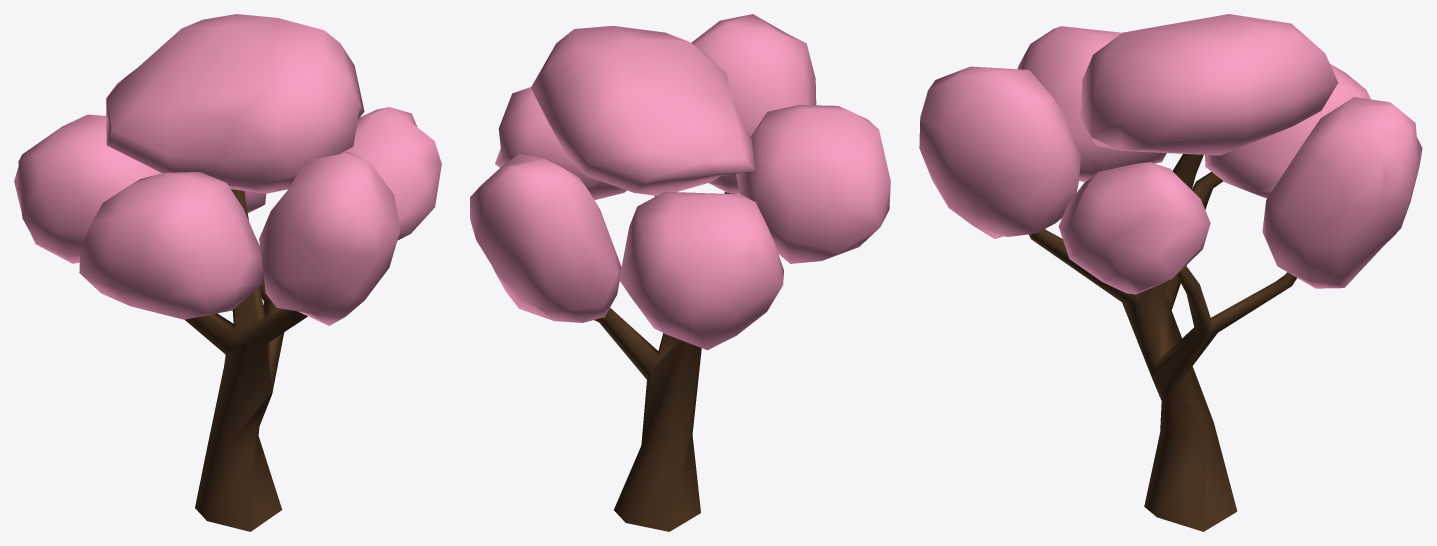
The model's file is Tree_7.fbx.
The picture shows the model from 3 angles, left to right: view 1: azimuth 30°, elevation 25°; view 2: azimuth 150°, elevation 25°; view 3: azimuth 270°, elevation 25°; orthographic projection. The views are drawn at different scales.
Visible parts, largest first — view 1: Tree_7; view 2: Tree_7; view 3: Tree_7.
Boxes of the visible parts, bbox=[...] form: Tree_7: bbox=[14, 14, 441, 531]; Tree_7: bbox=[470, 14, 890, 531]; Tree_7: bbox=[919, 14, 1422, 531].
Size of the model in its own units: 645 by 794 by 727.
